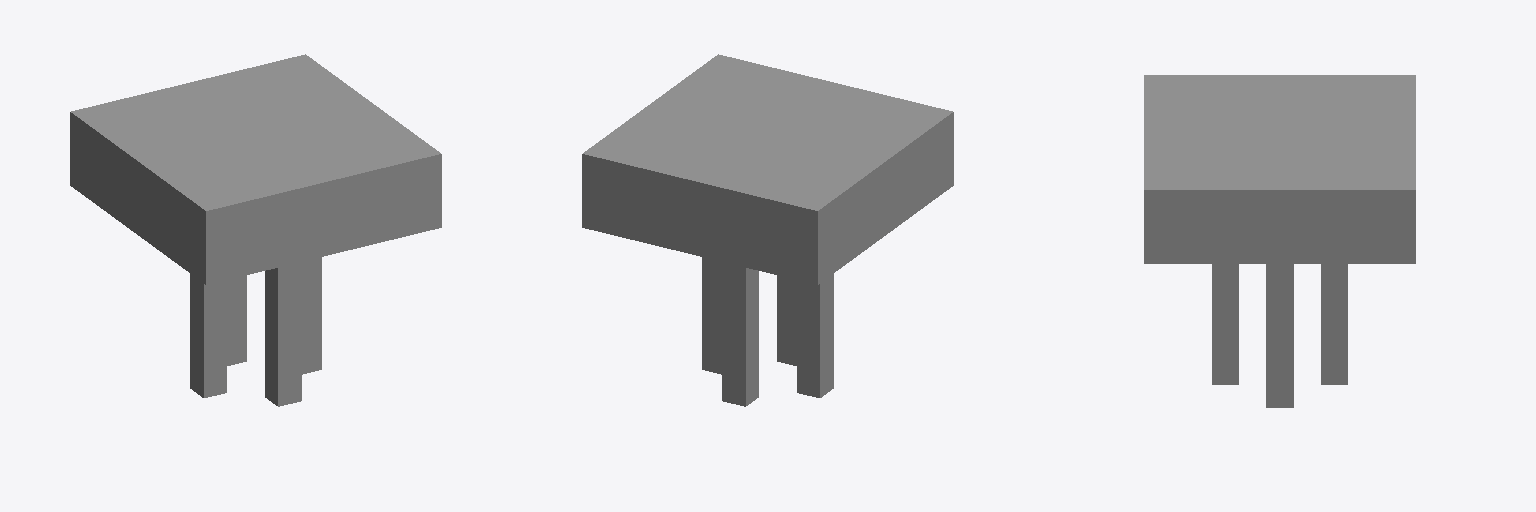
File: nc_rabbits_trap.obj
3 renders of one model, left to right at view 1: azimuth 30°, elevation 25°; view 2: azimuth 150°, elevation 25°; view 3: azimuth 270°, elevation 25°, orthographic.
Visible parts, largest first — view 1: Cube; view 2: Cube; view 3: Cube.
Boxes of the visible parts, <box> form: Cube: <box>70,54,441,406</box>; Cube: <box>582,54,953,406</box>; Cube: <box>1144,75,1415,407</box>.
Bounding box in the file's own units: 1 × 1 × 1.